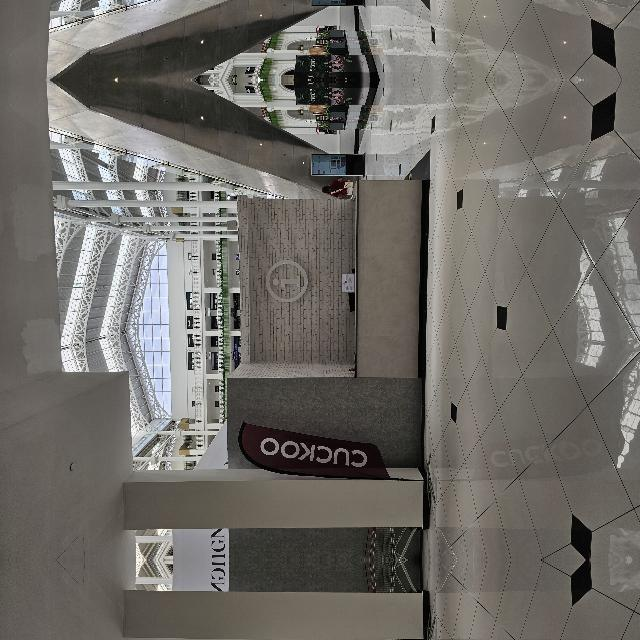obstacle: (172, 316, 360, 502), (172, 617, 359, 640)
person: (358, 399, 384, 438)
